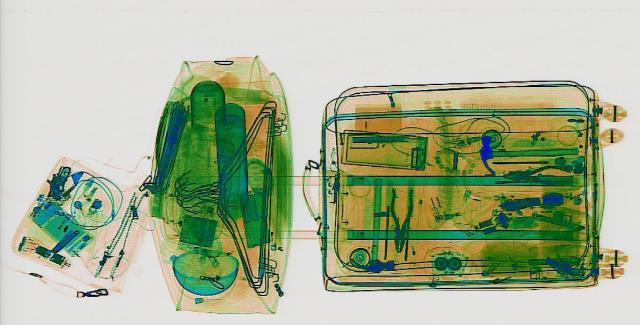Pliers: (386, 187, 414, 250), (504, 164, 564, 180)
